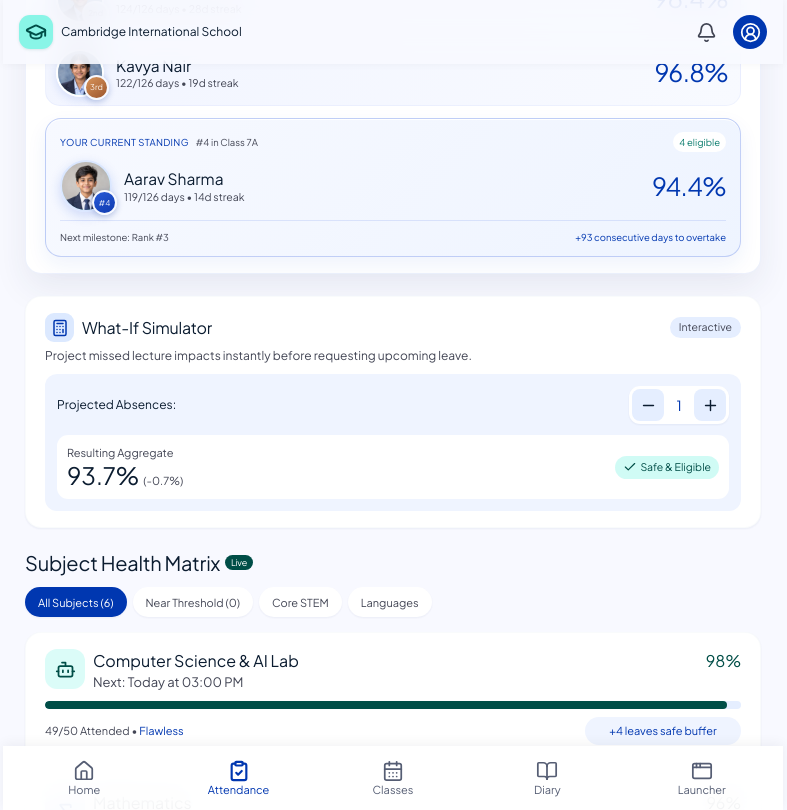
Test: StudentAttendancePage › updates the projected aggregate through the accessible what-if stepper
The image size is (787, 810).
(page scrolled)
expect the text "1" is shown: met, box [676,396,682,414]
expect the text "93.7% (-0.7%)" is shown: met, box [67,461,183,490]
Click the button named "Increase projected absences" at (710, 405), box [694,389,726,421]
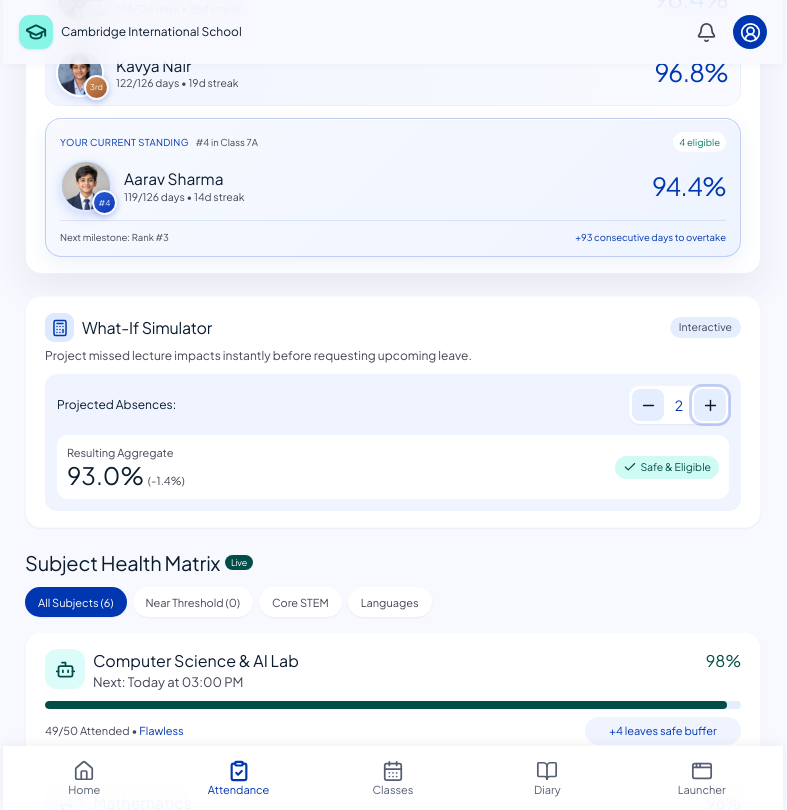
expect the text "2" is shown: met, box [675,396,683,414]
expect the text "93.0% (-1.4%)" is shown: met, box [67,461,185,490]
